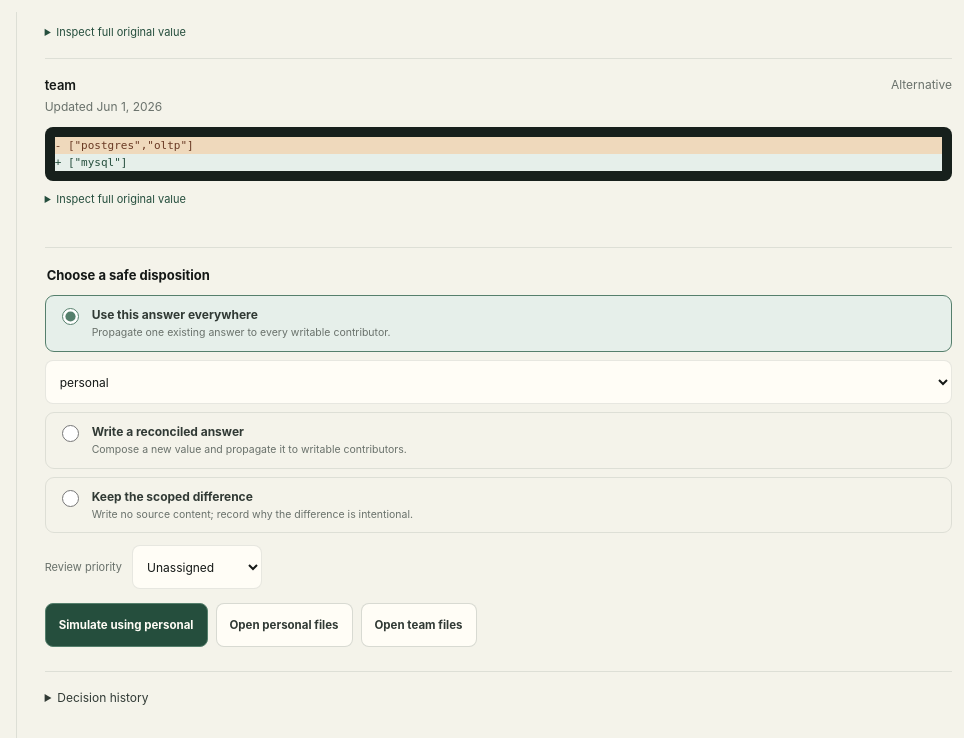
Test: Discrepancy Center › labels a frontmatter compose field "Reconciled value" and hides the Markdown preview affordance
Click the 2nd radio button at (70, 434), box x1=62 y1=425 x2=79 y2=442
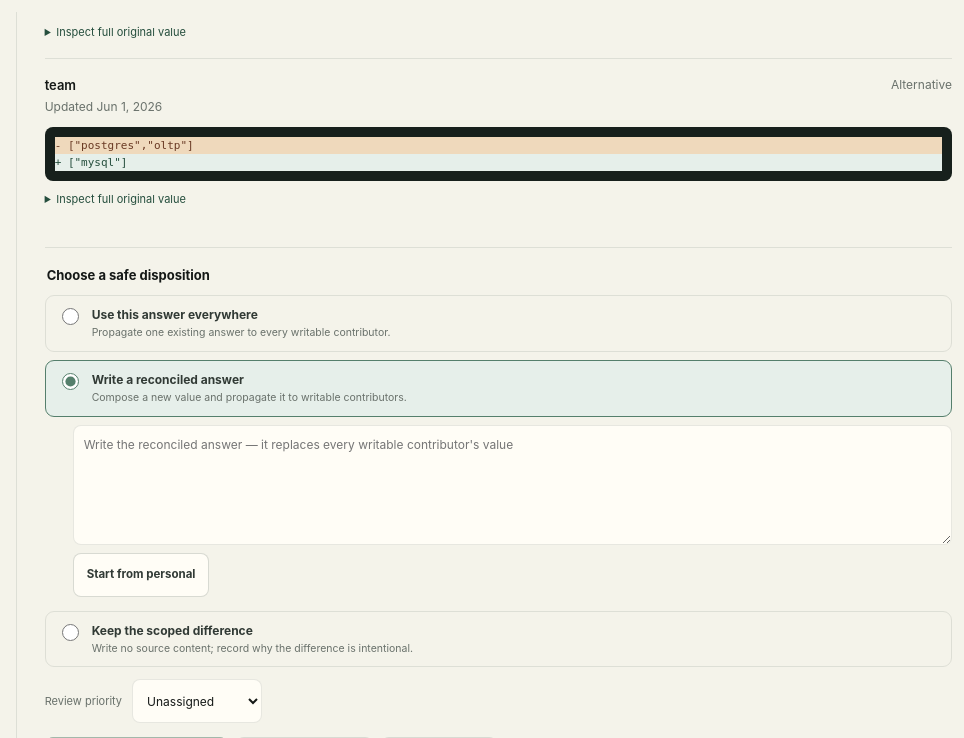
expect the text box named "Reconciled value" is shown: met, box x1=73 y1=425 x2=952 y2=545
